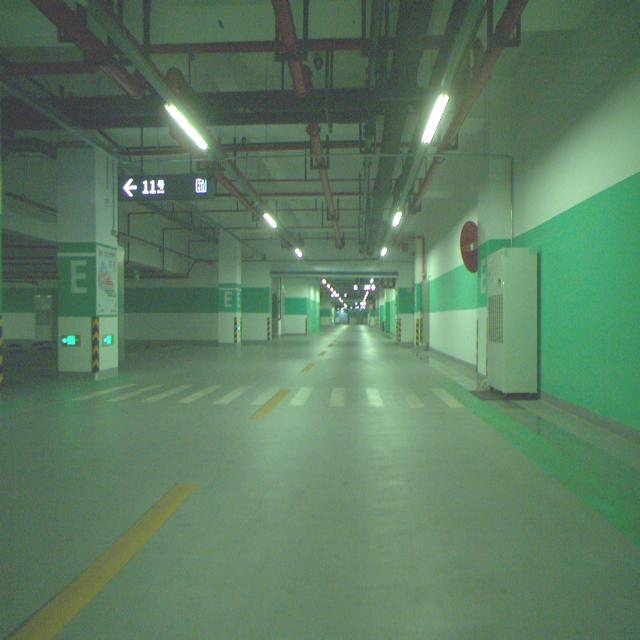pillar: (59, 148, 119, 375), (219, 230, 241, 344)
wall: (478, 156, 511, 375)
